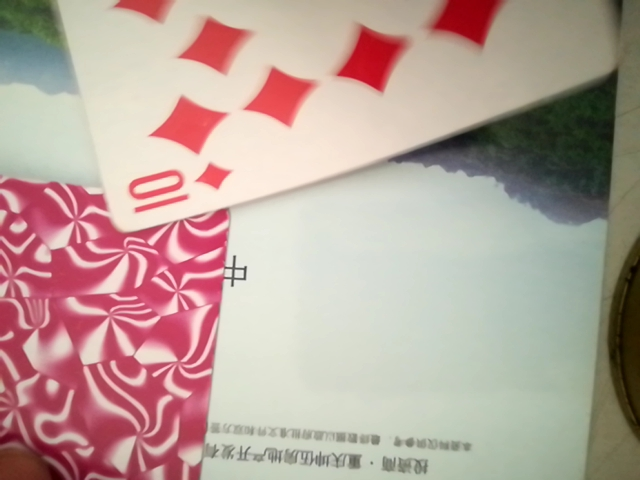fk 10: (25, 2, 612, 234)
